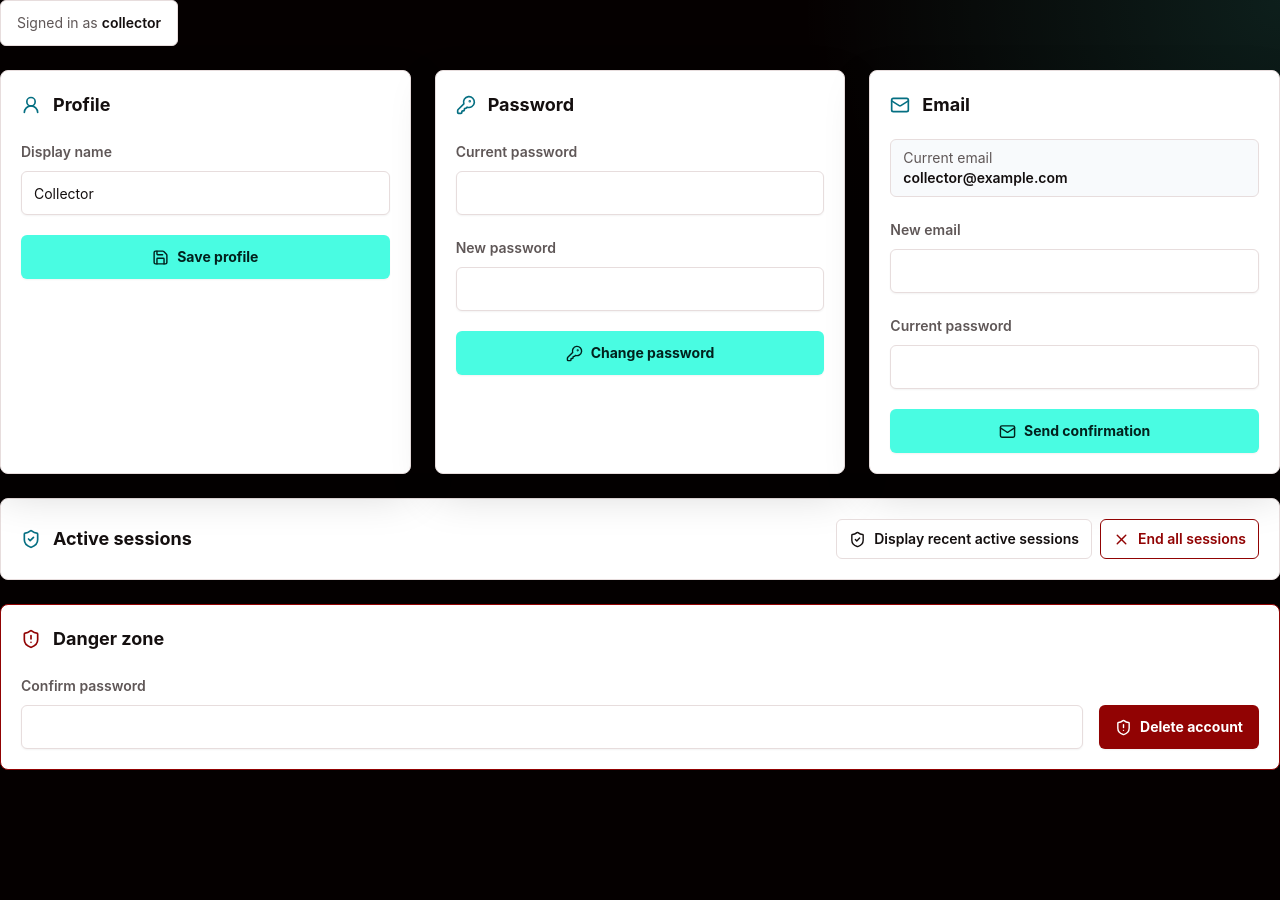
Test case: AccountSettingsPage › requires re-authentication before requesting account deletion
The width and height of the screenshot is (1280, 900).
Expected: the heading "Danger zone" is shown, x1=53 y1=625 x2=164 y2=653
Type "Str0ng!Pass" into the password field labelled "Confirm password".
click(552, 727); type("Str0ng!Pass")  # box x1=21 y1=705 x2=1083 y2=749
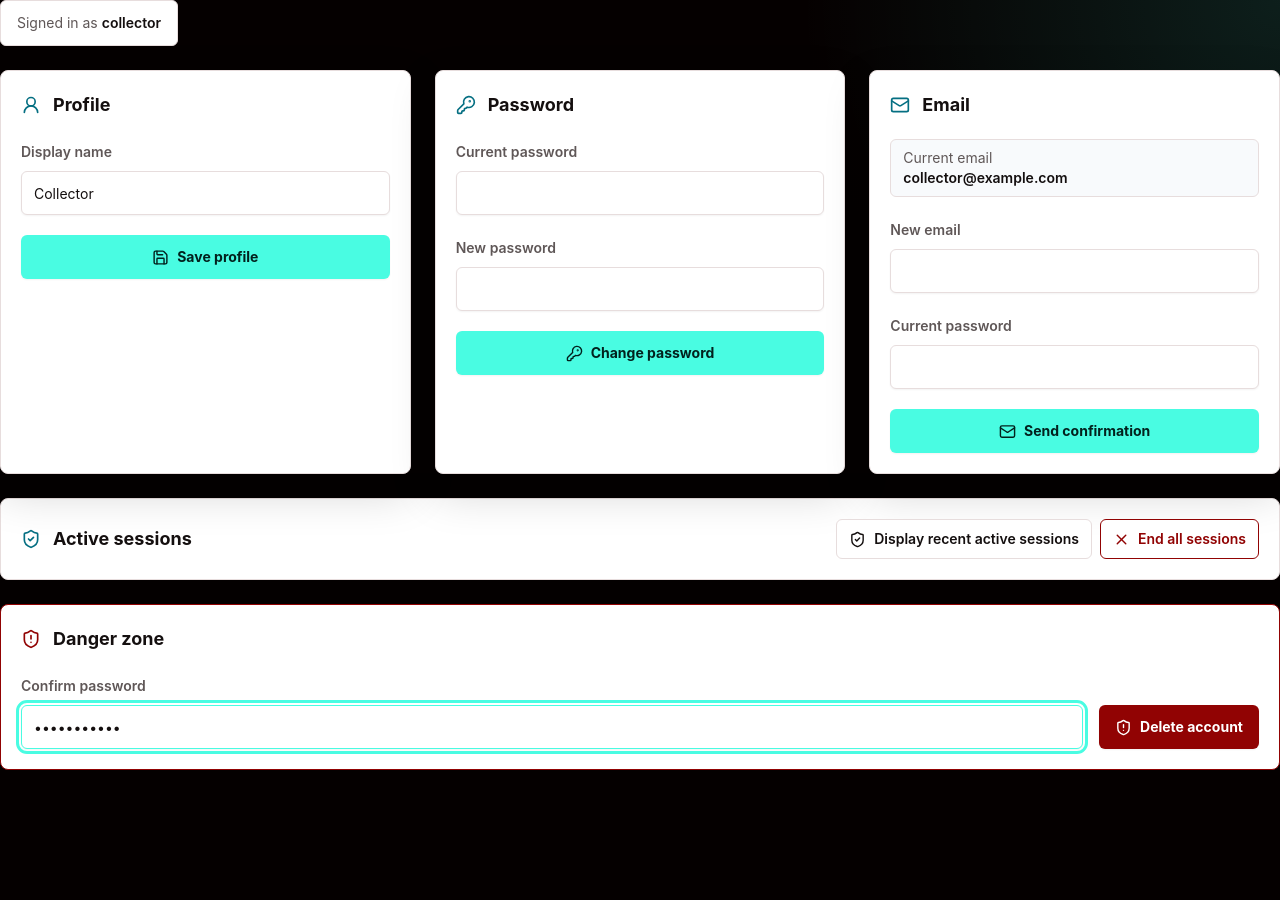
Click the button "Delete account".
click(1179, 727)  # box x1=1099 y1=705 x2=1259 y2=749
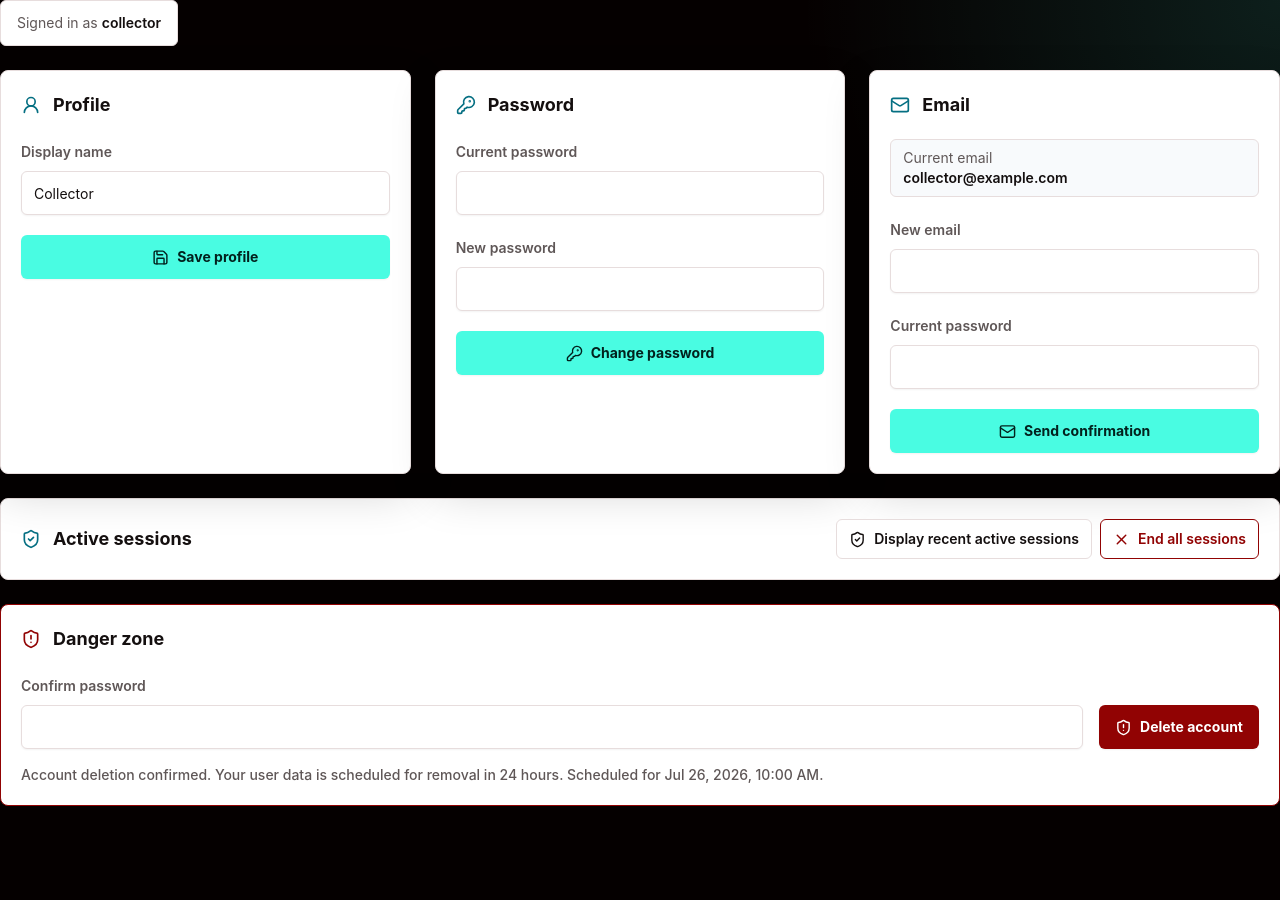
Expected: the text "scheduled for removal in 24 hours" is shown, x1=21 y1=766 x2=823 y2=783
